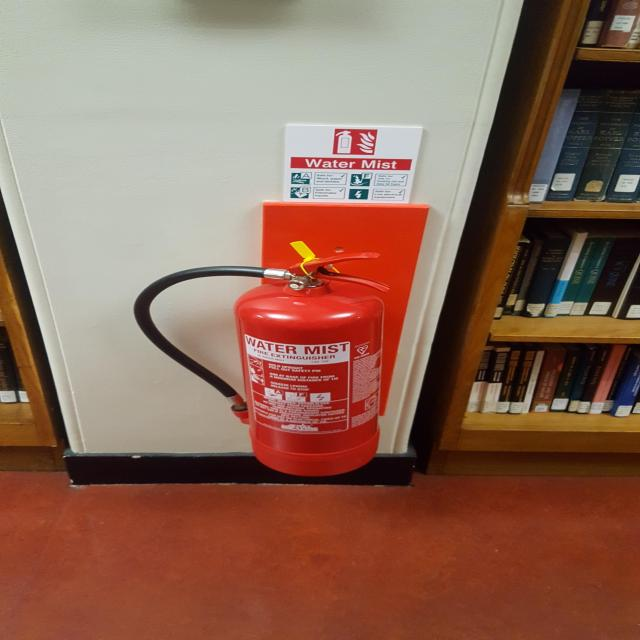fire_extinguisher: (128, 243, 402, 482)
